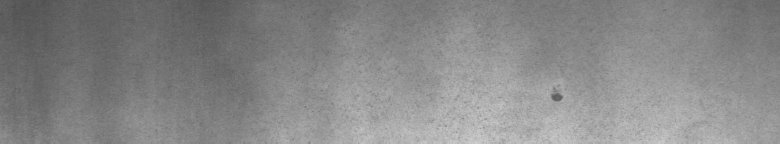fi: (545, 80, 567, 108)
